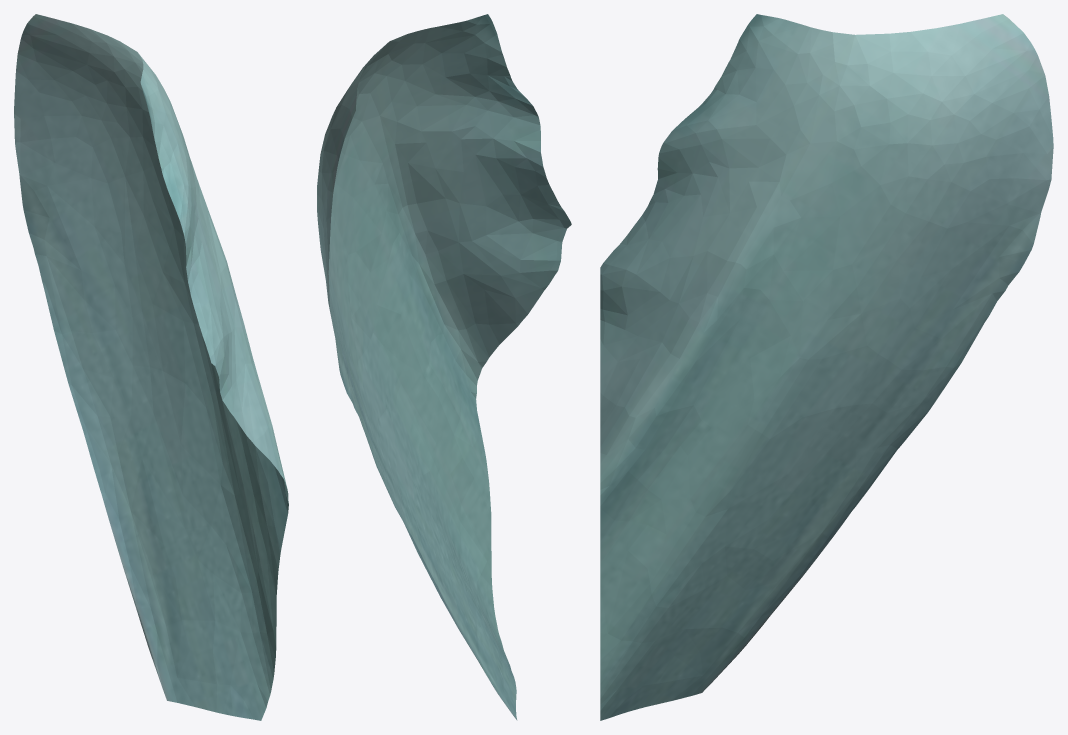
3 renders of one model, left to right at view 1: azimuth 30°, elevation 25°; view 2: azimuth 150°, elevation 25°; view 3: azimuth 270°, elevation 25°, orthographic. The views are drawn at different scales.
Visible parts, largest first — view 1: 091_W_Aya_100K_01; view 2: 091_W_Aya_100K_01; view 3: 091_W_Aya_100K_01.
Part boxes in pixels (x1,y1,x2,y2): 091_W_Aya_100K_01: (14,14,288,720); 091_W_Aya_100K_01: (317,14,571,720); 091_W_Aya_100K_01: (600,14,1053,720).
Size of the model in its own units: 24.3 by 171 by 104.
1 material, 1 textured.
